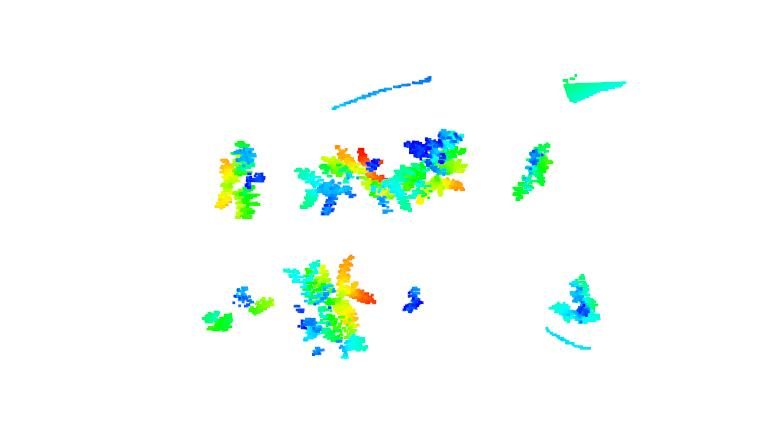chickpea: (286, 253, 371, 358), (296, 142, 394, 216), (385, 122, 470, 207), (215, 138, 269, 223), (197, 283, 276, 334), (505, 137, 556, 205), (545, 271, 601, 329), (398, 281, 426, 316)
